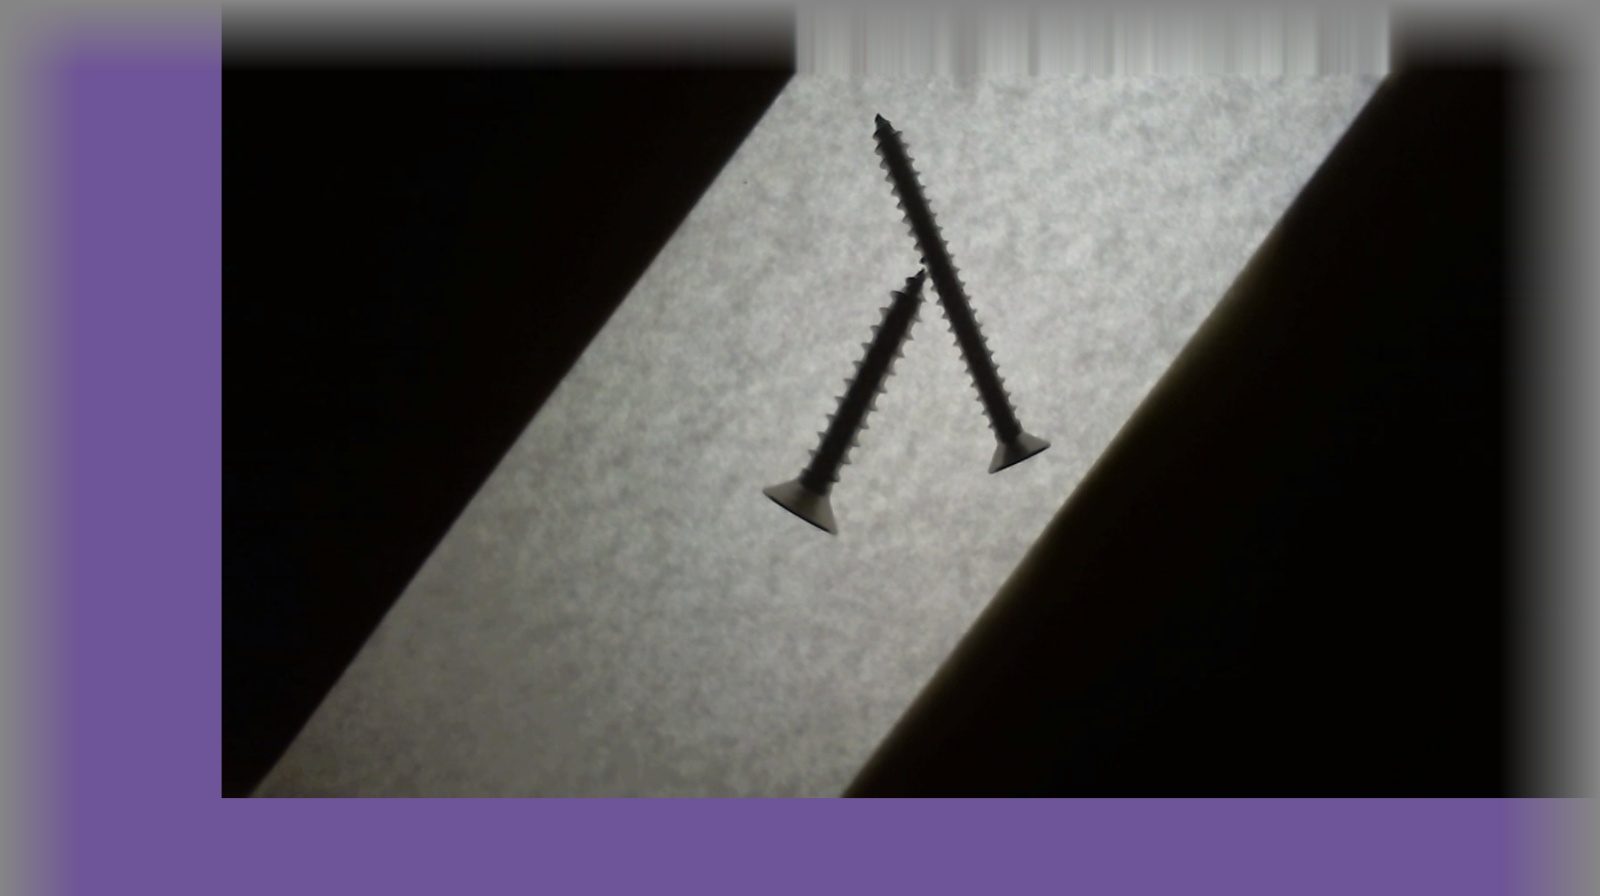S001: (755, 263, 930, 537)
S002: (865, 111, 1049, 478)
